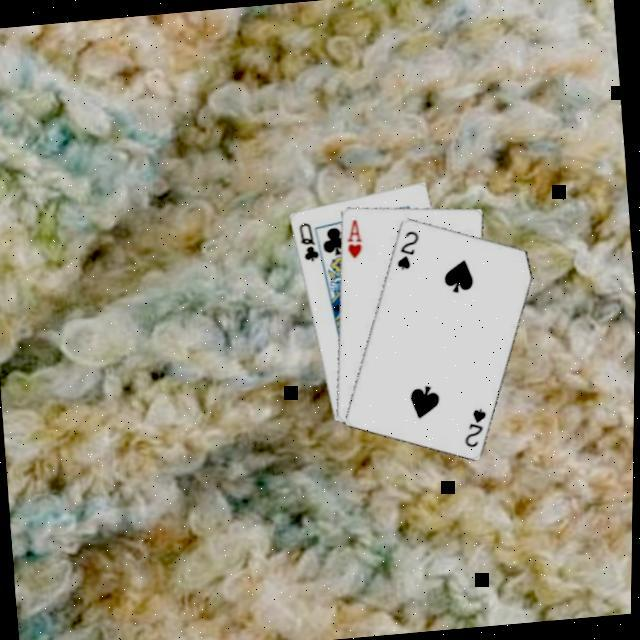2S: (388, 225, 423, 271), (458, 402, 490, 448)
AH: (339, 213, 365, 260)
QC: (292, 216, 321, 262)
